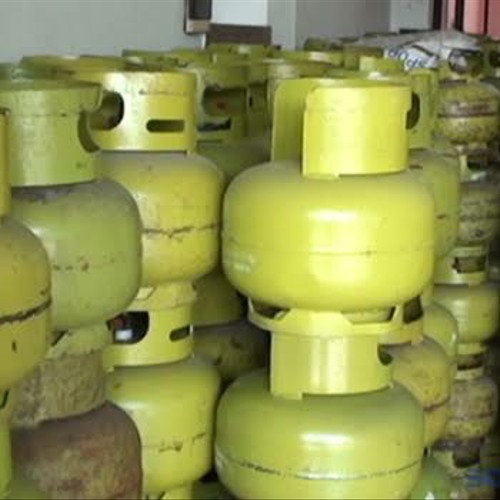gas_ijo: (226, 79, 433, 325), (1, 75, 137, 348), (213, 326, 423, 500), (76, 69, 220, 288), (110, 303, 223, 489), (4, 354, 143, 500), (1, 118, 54, 402), (433, 139, 500, 256), (431, 255, 496, 354), (426, 356, 500, 442), (430, 58, 500, 142)
